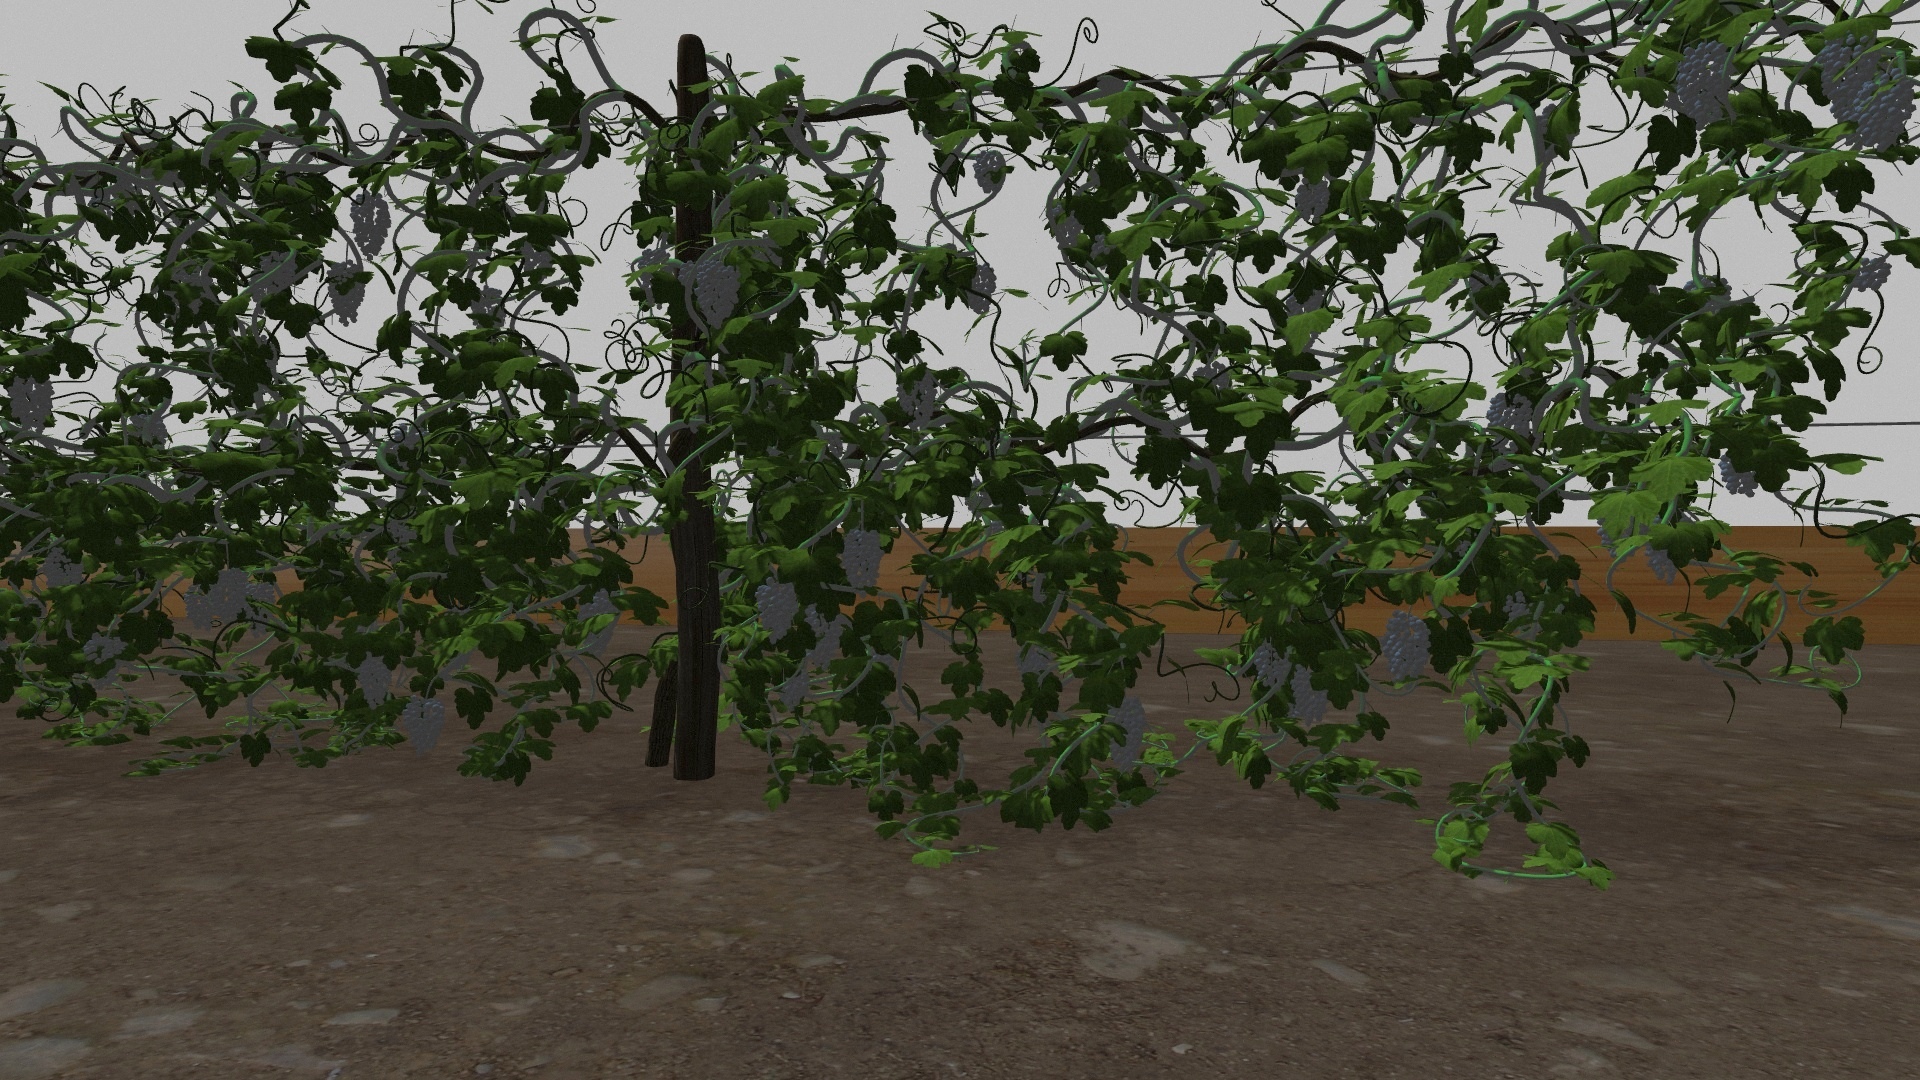grape: (1855, 69, 1915, 158), (1673, 40, 1731, 131), (1817, 34, 1875, 120), (1383, 611, 1432, 688), (1104, 698, 1149, 779), (1484, 393, 1532, 454), (695, 262, 738, 330), (349, 193, 393, 258), (841, 529, 884, 596), (8, 375, 54, 435), (754, 578, 796, 644), (324, 262, 367, 327), (402, 691, 444, 756), (1291, 661, 1331, 727), (803, 603, 841, 670), (580, 589, 618, 657), (897, 371, 939, 430), (251, 251, 297, 303), (960, 264, 998, 316), (1720, 451, 1760, 498), (212, 568, 247, 624), (40, 549, 86, 589), (357, 658, 394, 708), (245, 584, 276, 638), (1853, 255, 1894, 294), (1255, 644, 1291, 688), (972, 150, 1007, 195), (1295, 179, 1332, 222), (185, 584, 214, 629), (82, 633, 123, 665), (779, 675, 808, 707)
